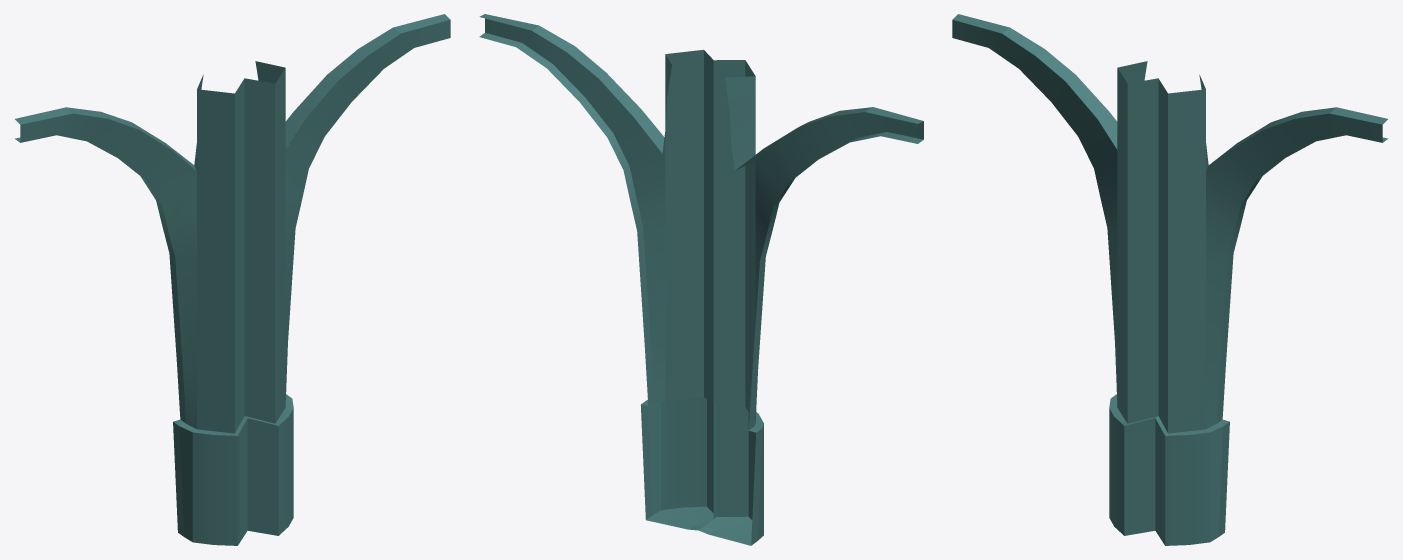
The model's file is Arch_Across_AgainstWall.fbx.
3 views of the same model, side by side, from view 1: azimuth 30°, elevation 25°; view 2: azimuth 150°, elevation 25°; view 3: azimuth 330°, elevation 25° (orthographic). The views are drawn at different scales.
Parts seen in each view (by area): view 1: Arch_Across_AgainstWall; view 2: Arch_Across_AgainstWall; view 3: Arch_Across_AgainstWall.
Part boxes in pixels (x1=…): Arch_Across_AgainstWall: x1=15, y1=14, x2=450, y2=545; Arch_Across_AgainstWall: x1=479, y1=14, x2=923, y2=545; Arch_Across_AgainstWall: x1=952, y1=14, x2=1387, y2=545.
Size of the model in its own units: 400 by 403 by 46.12.
